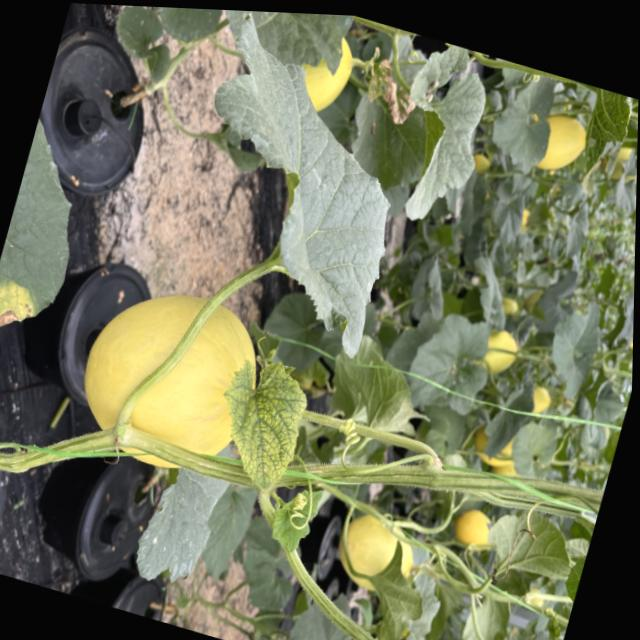CMV: (137, 6, 439, 358), (196, 339, 322, 496), (558, 81, 639, 182)
alternaria leaf blight: (0, 91, 111, 352)
healthy: (124, 458, 233, 599)
